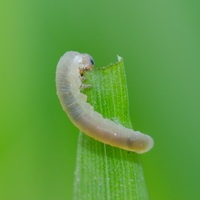insect: (56, 51, 153, 152)
